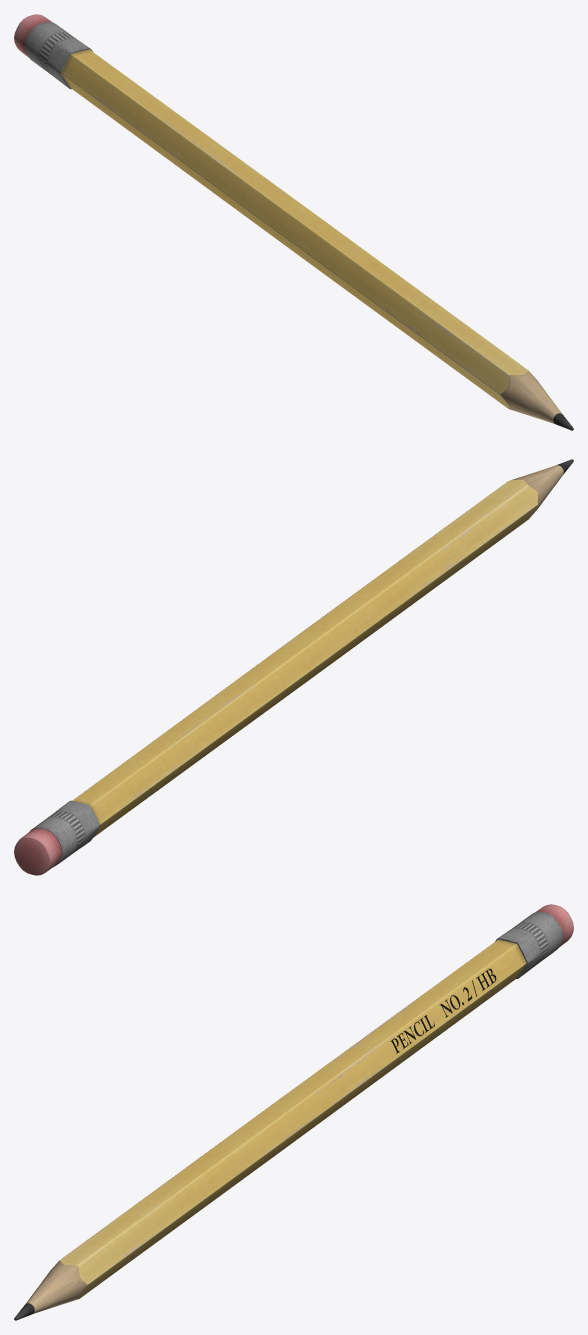
The model's file is pencil.fbx.
3 views of the same model, one above another, from view 1: azimuth 30°, elevation 25°; view 2: azimuth 150°, elevation 25°; view 3: azimuth 330°, elevation 25° (orthographic).
Visible parts, largest first — view 1: node_id30; view 2: node_id30; view 3: node_id30.
Boxes of the visible parts, x1,y1,x2,y2 form: node_id30: [14, 14, 573, 430]; node_id30: [14, 459, 573, 875]; node_id30: [14, 904, 573, 1320].
Size of the model in its own units: 0.512 by 0.4885 by 12.15.
1 material, 1 textured.
